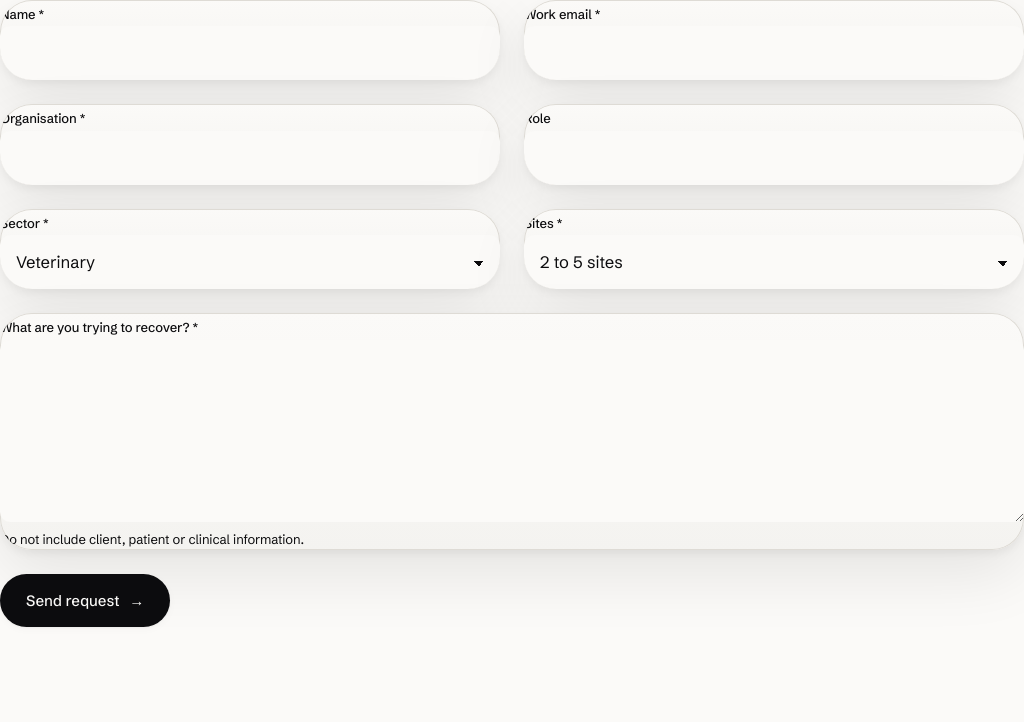
AssessmentForm — configured › surfaces server field errors against the right inputs
Type "Jordan Ellis" into the field labelled "Name *" at (250, 53), box [0, 26, 500, 80]
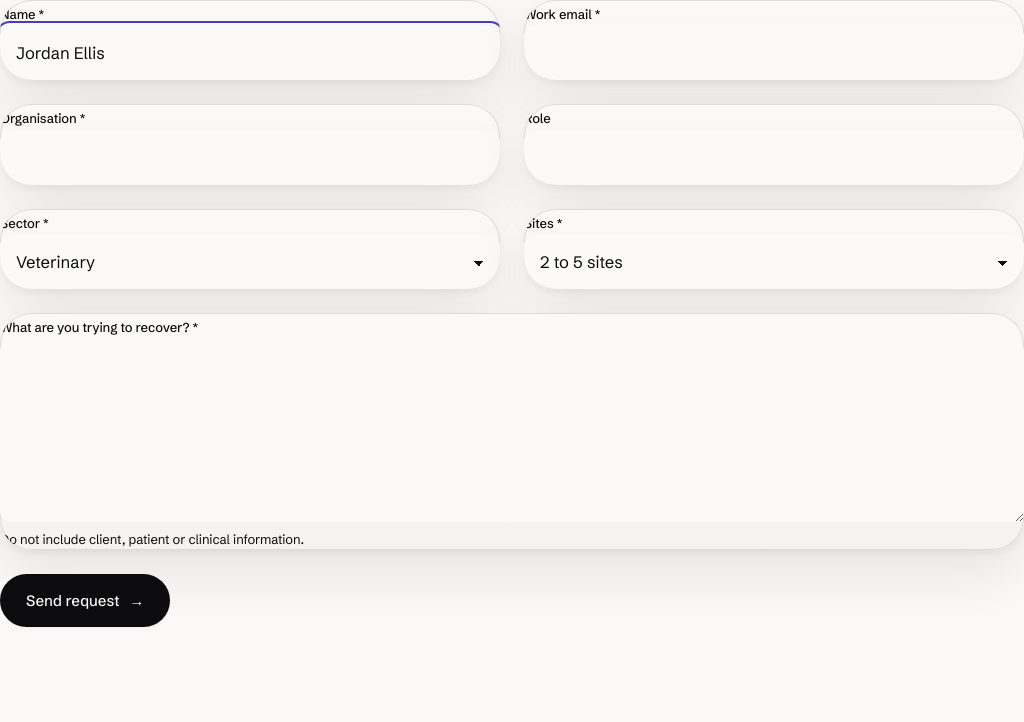
Type "jordan@example.com" into the field labelled "Work email *" at (774, 53), box [524, 26, 1023, 80]
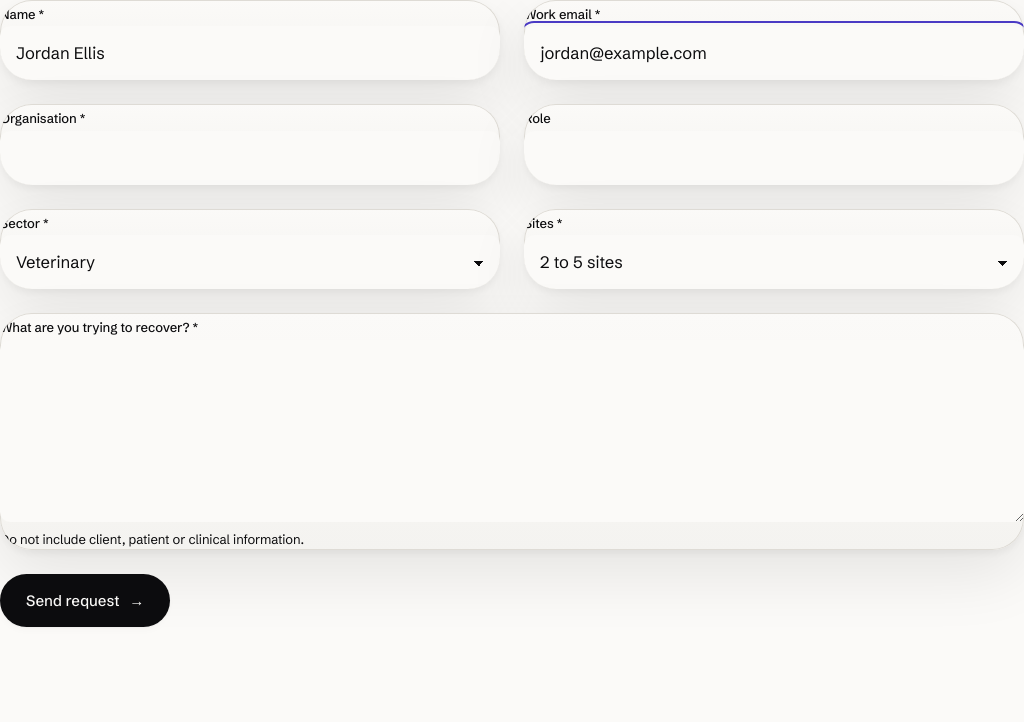
Type "Northgate Veterinary Group" into the field labelled "Organisation *" at (250, 158), box [0, 131, 500, 185]
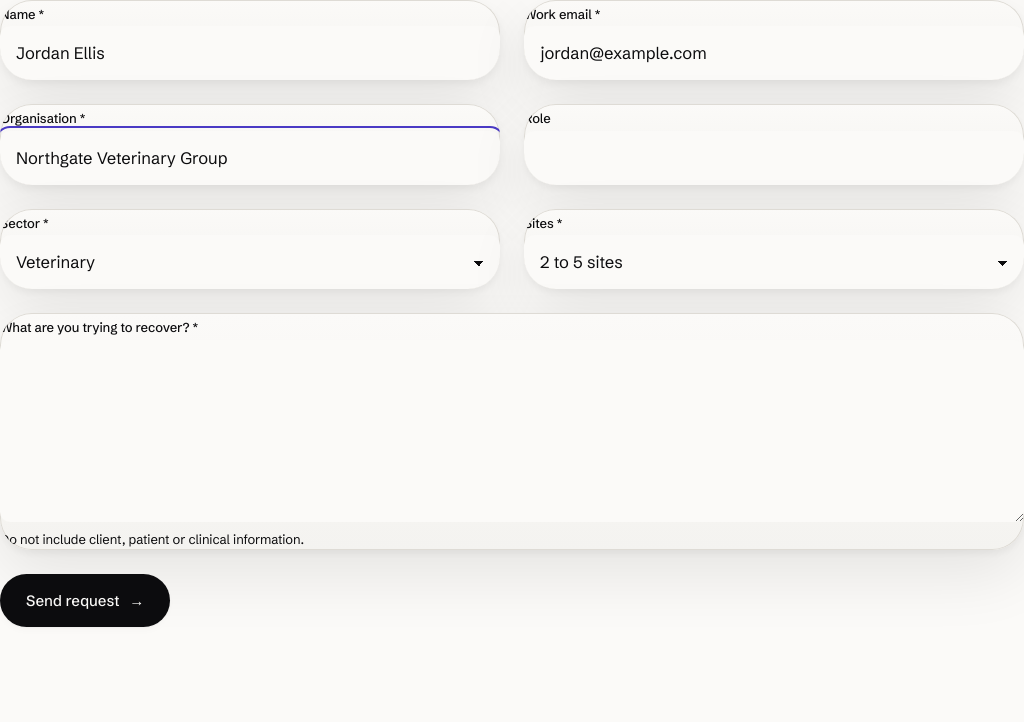
Type "We believe we are losing after-hours calls across four sites." into the text box labelled "What are you trying to recover? *" at (512, 431), box [0, 340, 1023, 522]
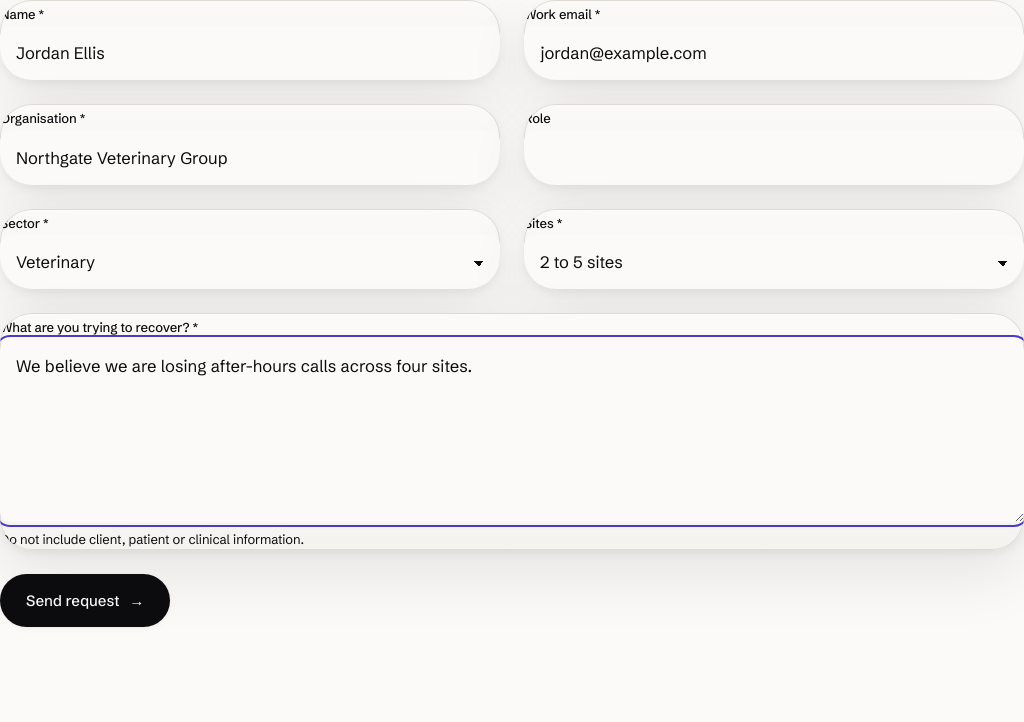
Click the button "Send request →" at (85, 601), box [0, 574, 170, 627]
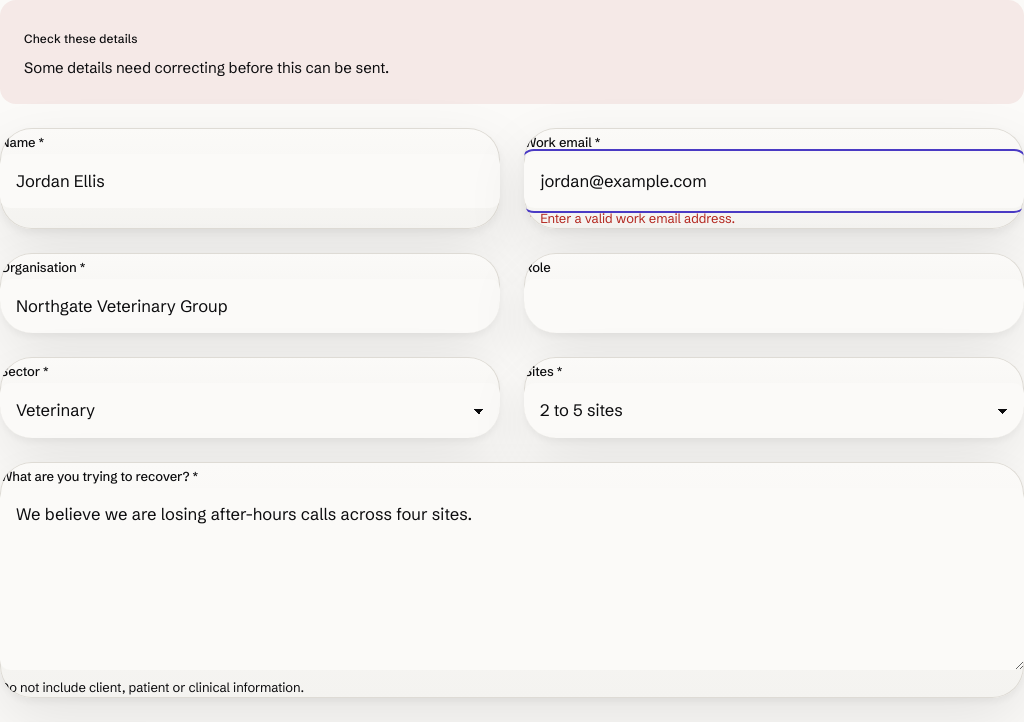
Now the message shows "need correcting", box [24, 58, 389, 77]
